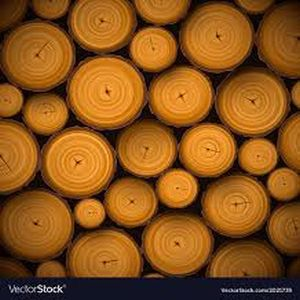log: (67, 56, 148, 130), (41, 127, 116, 197), (180, 2, 254, 71), (215, 69, 290, 137), (2, 189, 72, 259), (2, 24, 75, 89), (145, 214, 213, 275), (202, 175, 267, 236), (70, 230, 143, 281), (149, 68, 214, 124), (117, 119, 176, 177), (178, 124, 238, 176), (72, 1, 136, 48), (213, 239, 280, 280), (106, 180, 157, 226), (131, 28, 179, 71), (24, 93, 68, 135), (158, 170, 199, 209), (269, 203, 300, 253), (238, 139, 276, 174), (74, 198, 106, 228), (269, 169, 300, 198), (1, 84, 23, 118)
